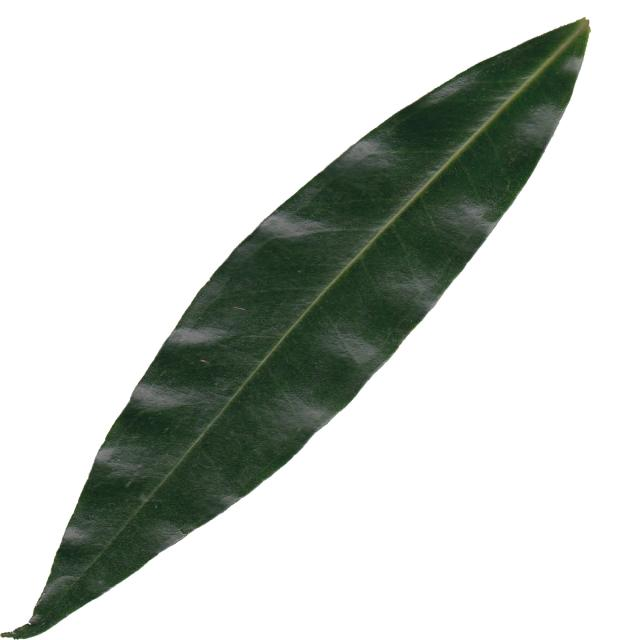Medicinal-Rose Apple: (0, 17, 593, 640)
